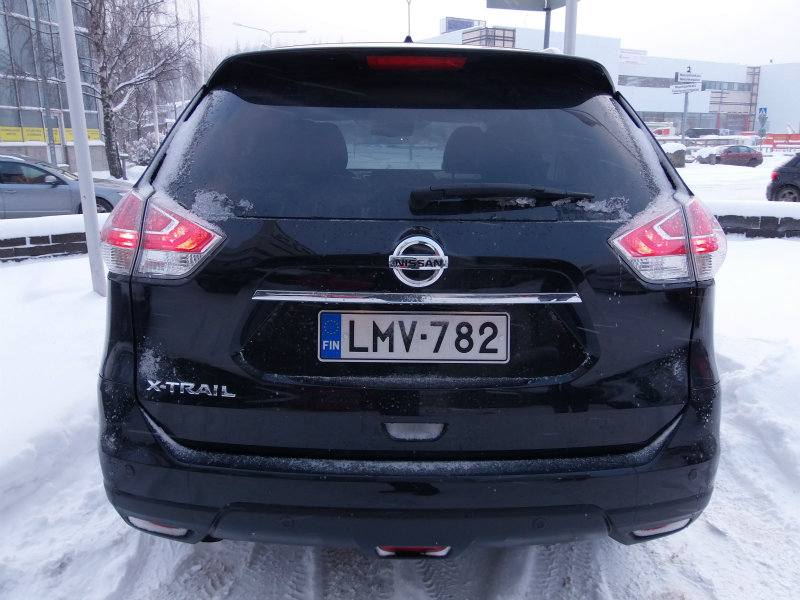license: (317, 310, 508, 361)
